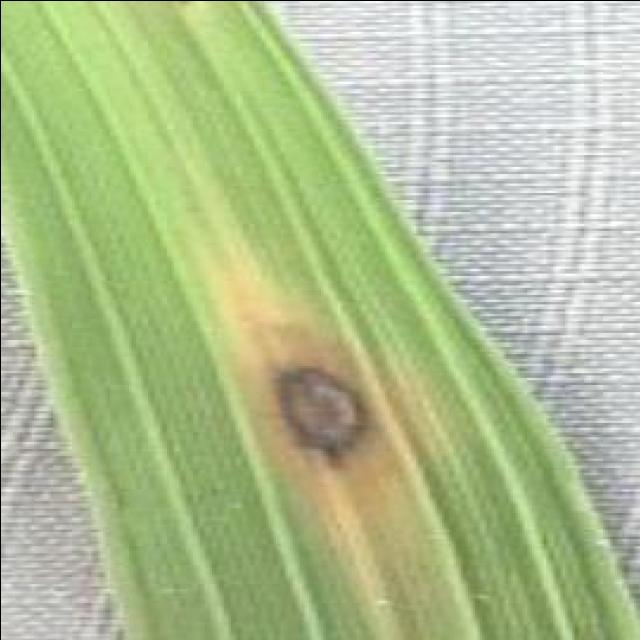Brown_Spot: (247, 342, 401, 486), (166, 0, 202, 9)
